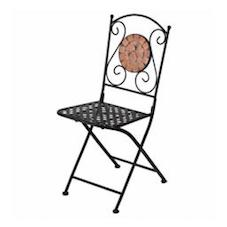chair: (46, 11, 188, 208), (46, 11, 186, 205)
